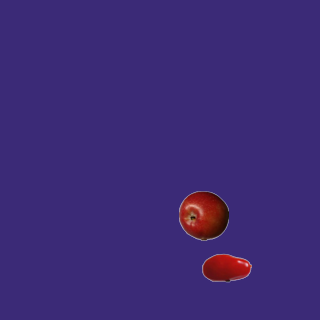Apple Braeburn: (178, 190, 228, 240)
Tomato 2: (201, 242, 251, 292)
